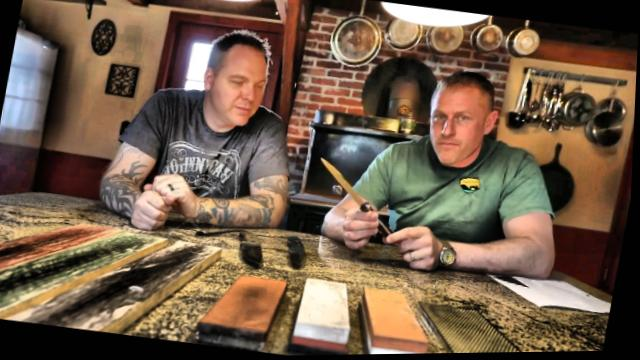knife: (300, 148, 412, 242)
